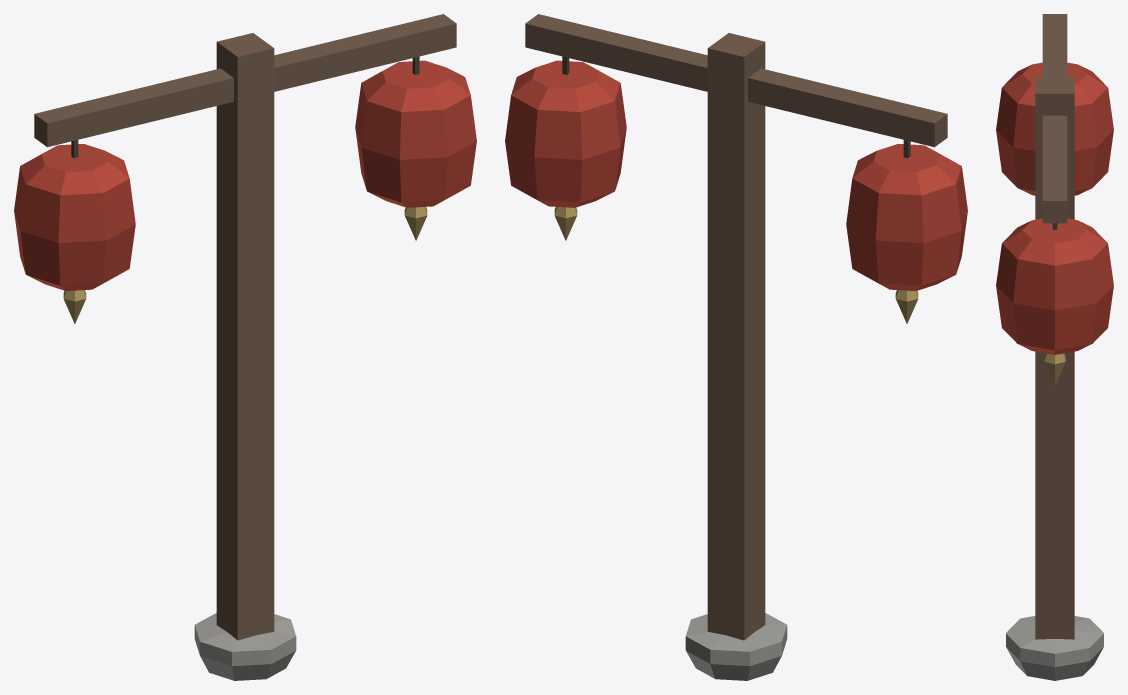
Rendered from cn_red_lantern.glb.
3 renders of one model, left to right at view 1: azimuth 30°, elevation 25°; view 2: azimuth 150°, elevation 25°; view 3: azimuth 270°, elevation 25°, orthographic. The views are drawn at different scales.
Parts seen in each view (by area): view 1: cn_red_lantern; view 2: cn_red_lantern; view 3: cn_red_lantern.
Boxes of the visible parts, bbox=[...] form: cn_red_lantern: bbox=[14, 14, 476, 680]; cn_red_lantern: bbox=[505, 14, 967, 680]; cn_red_lantern: bbox=[996, 14, 1113, 680].
Bounding box in the file's own units: 1.98 × 2.6 × 0.48.
